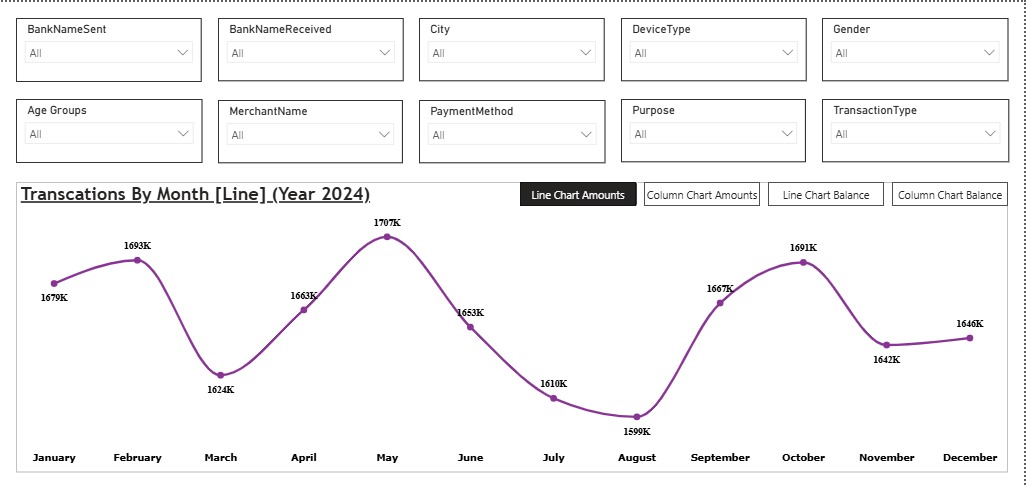

This screenshot's page, from the dashboard's own definition file:
{"tool":"powerbi","page":{"name":"Page 1","canvas":[1280,720],"ordinal":0},"visuals":[{"type":"slicer","fields":{"Values":["UPI Transcations.BankNameSent"]},"box":[20.2,20,232,80],"z":0},{"type":"slicer","fields":{"Values":["UPI Transcations.BankNameReceived"]},"box":[272.2,20,232,79.2],"z":1000},{"type":"slicer","fields":{"Values":["UPI Transcations.City"]},"box":[524.3,20,232,78.6],"z":2000},{"type":"slicer","fields":{"Values":["UPI Transcations.DeviceType"]},"box":[776,20,232,78.6],"z":3000},{"type":"slicer","fields":{"Values":["UPI Transcations.Gender"]},"box":[1028,20,232.9,78.6],"z":4000},{"type":"slicer","fields":{"Values":["UPI Transcations.Age Groups"]},"box":[20,121.2,232.5,80],"z":5000},{"type":"slicer","fields":{"Values":["UPI Transcations.MerchantName"]},"box":[272.5,122.5,231.2,78.8],"z":6000},{"type":"slicer","fields":{"Values":["UPI Transcations.PaymentMethod"]},"box":[523.8,122.5,232.5,78.8],"z":7000},{"type":"slicer","fields":{"Values":["UPI Transcations.Purpose"]},"box":[776.2,121.2,231.2,78.8],"z":8000},{"type":"slicer","fields":{"Values":["UPI Transcations.TransactionType"]},"box":[1027.5,121.2,233.8,78.8],"z":9000},{"type":"lineChart","title":"Transcations By Month [Line] (Year 2024)","fields":{"Y":["Sum(UPI Transcations.Amount)"],"Category":["UPI Transcations.TransactionDate.Variation.Date Hierarchy.Month"]},"box":[20,225,1240,362.5],"z":10000},{"type":"bookmarkNavigator","box":[650,225,610,30],"z":14000}]}

Visuals, with their boxes on the page's 1280x720 design canvas (x1, y1, x2, y2). These are canvas units, not pixel positions in the 1034x486 screenshot, which may show the page scaled, cropped or inside an application window:
slicer - UPI Transcations.BankNameSent: region(20, 20, 252, 100)
slicer - UPI Transcations.BankNameReceived: region(272, 20, 504, 99)
slicer - UPI Transcations.City: region(524, 20, 756, 99)
slicer - UPI Transcations.DeviceType: region(776, 20, 1008, 99)
slicer - UPI Transcations.Gender: region(1028, 20, 1261, 99)
slicer - UPI Transcations.Age Groups: region(20, 121, 252, 201)
slicer - UPI Transcations.MerchantName: region(272, 122, 504, 201)
slicer - UPI Transcations.PaymentMethod: region(524, 122, 756, 201)
slicer - UPI Transcations.Purpose: region(776, 121, 1007, 200)
slicer - UPI Transcations.TransactionType: region(1028, 121, 1261, 200)
"Transcations By Month [Line] (Year 2024)" lineChart: region(20, 225, 1260, 588)
bookmarkNavigator: region(650, 225, 1260, 255)
